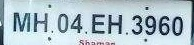character: (12, 11, 31, 33), (32, 11, 48, 33), (107, 13, 123, 35), (90, 12, 105, 35), (69, 12, 83, 34), (144, 14, 157, 36), (56, 12, 68, 34), (131, 13, 143, 35), (158, 14, 170, 36), (171, 15, 183, 36)
